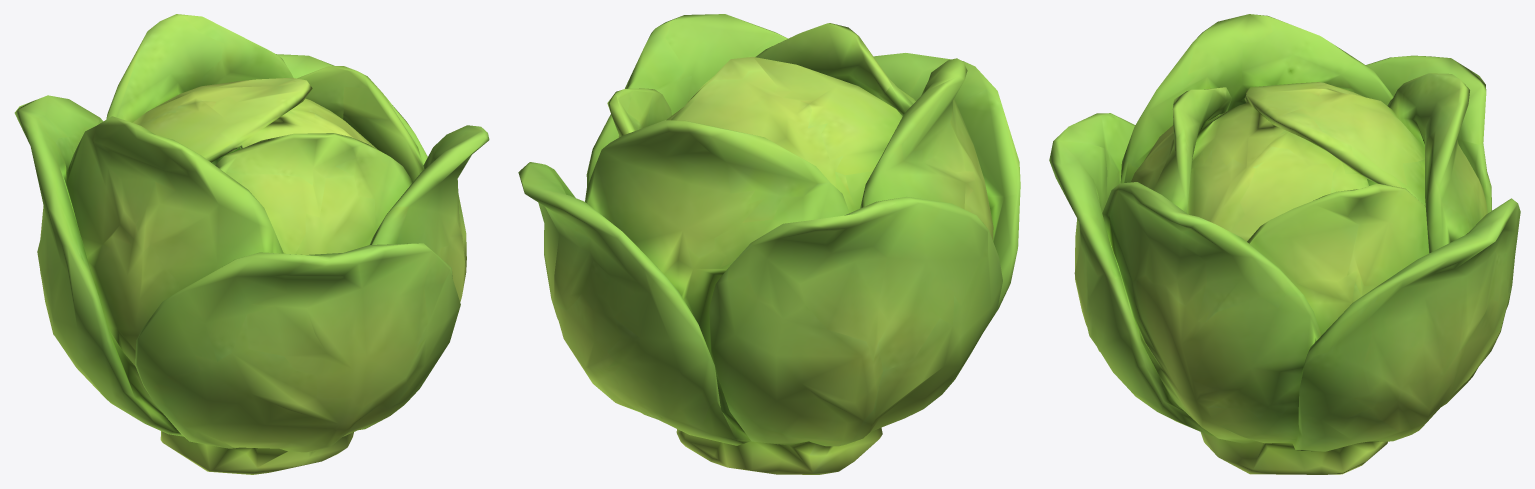
The model's file is cabbage_l2.glb.
3 renders of one model, left to right at view 1: azimuth 30°, elevation 25°; view 2: azimuth 150°, elevation 25°; view 3: azimuth 270°, elevation 25°, orthographic. The views are drawn at different scales.
Parts seen in each view (by area): view 1: tripo_node_037c8b53-38f4-4d28-b2e4-917cd733979b; view 2: tripo_node_037c8b53-38f4-4d28-b2e4-917cd733979b; view 3: tripo_node_037c8b53-38f4-4d28-b2e4-917cd733979b.
Boxes of the visible parts, box(x1,y1,x2,y2) form: tripo_node_037c8b53-38f4-4d28-b2e4-917cd733979b: box(14, 14, 489, 474); tripo_node_037c8b53-38f4-4d28-b2e4-917cd733979b: box(518, 14, 1020, 474); tripo_node_037c8b53-38f4-4d28-b2e4-917cd733979b: box(1049, 14, 1520, 474).
Bounding box in the file's own units: 0.9262 × 0.8194 × 0.98.
Materials: 1 (1 with a texture image).
